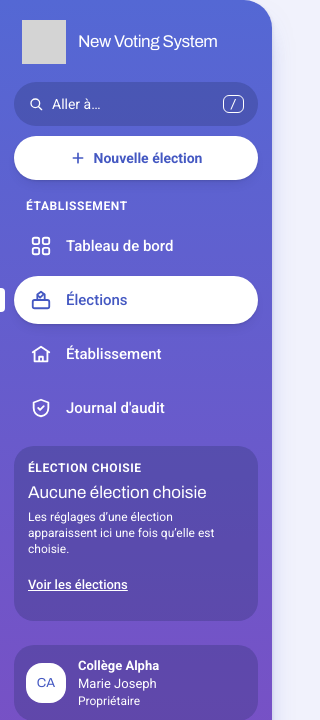
SideMenu › says so when nothing matches, and goes nowhere on Enter
In the search field with test id "menu-search": (133, 104) top-left (52, 84), bottom-right (215, 124), type "zzzz"
Then press Enter
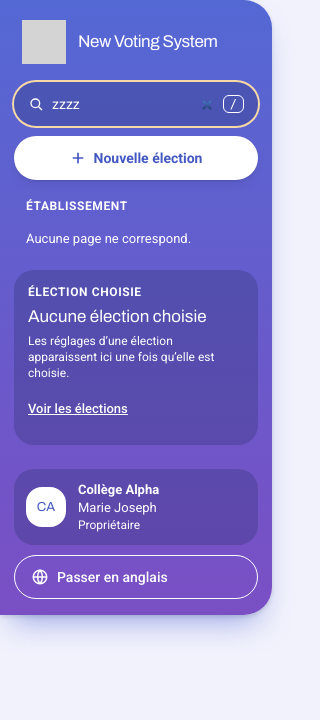
Check: the message "Aucune page ne correspond." is shown, box top-left (26, 231), bottom-right (191, 246)
